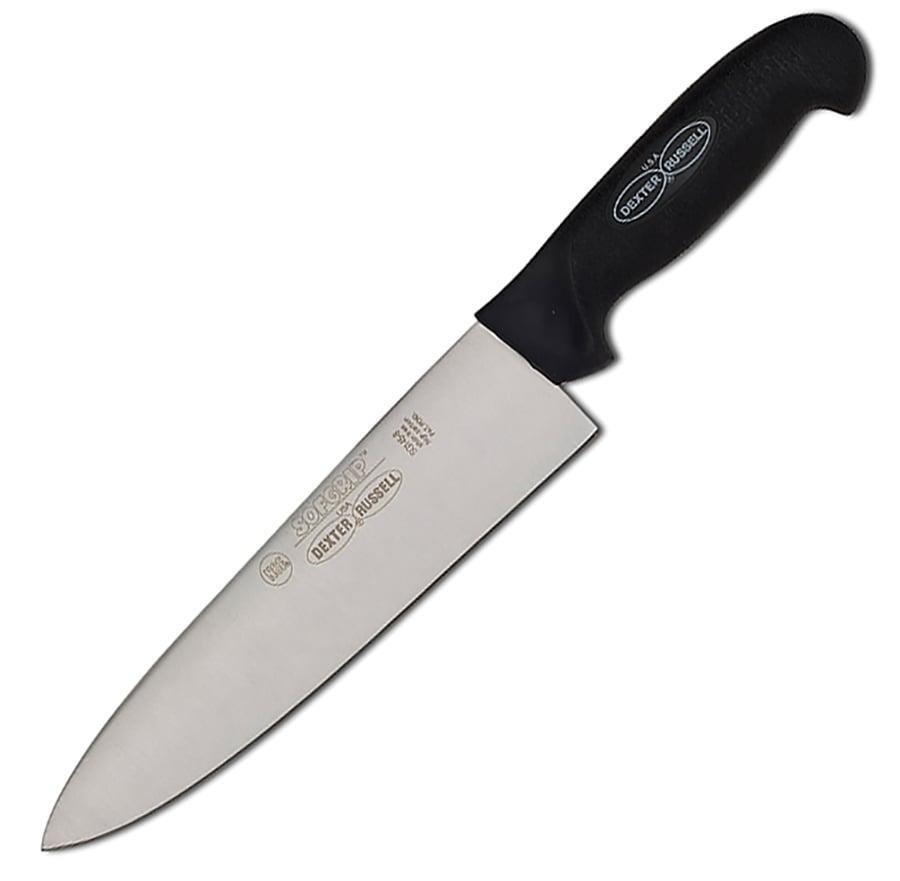faca: (43, 13, 869, 850)
